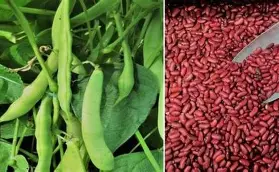crops: (0, 1, 161, 170), (164, 2, 276, 171)
